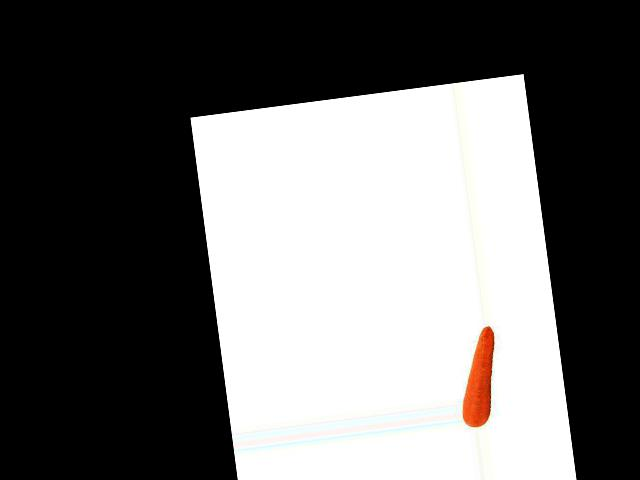carrot: (452, 325, 505, 428)
